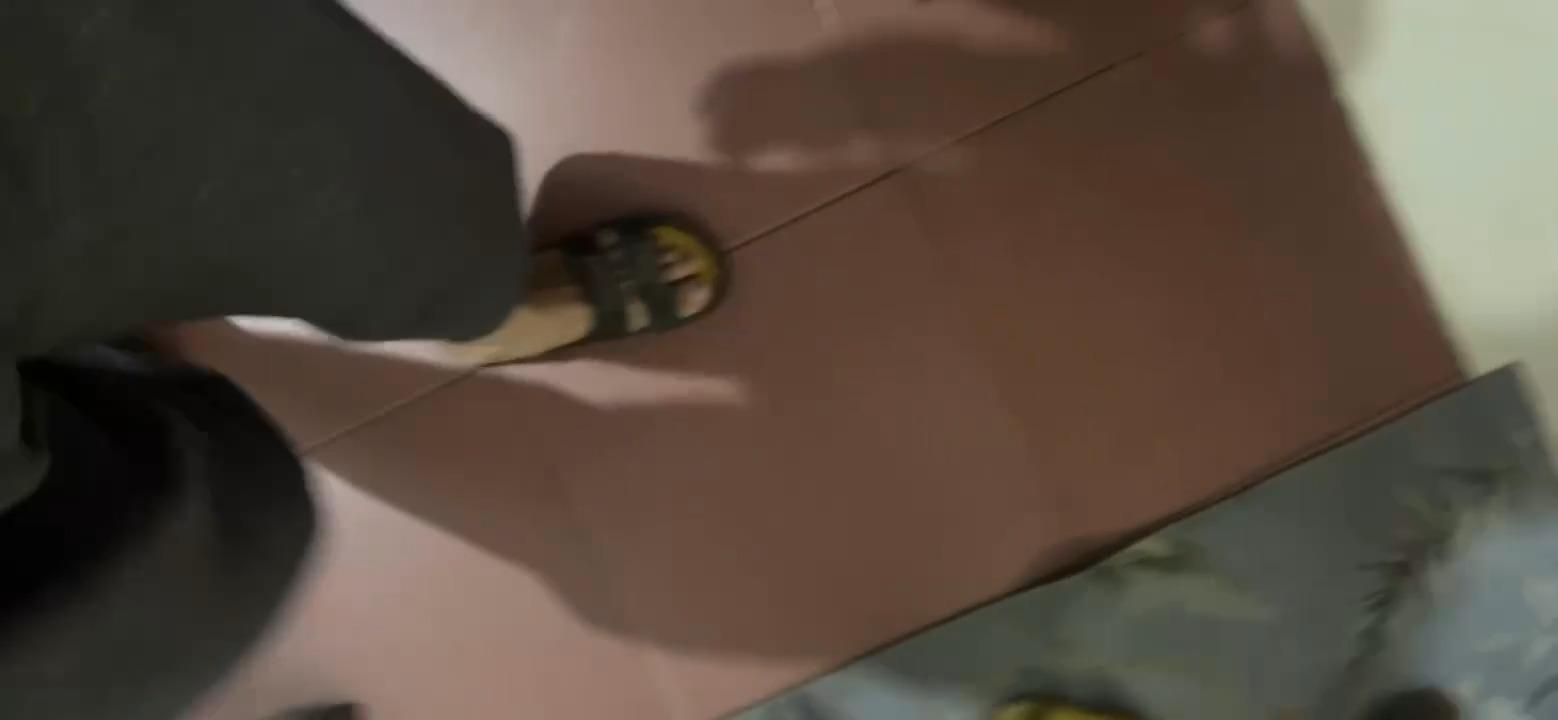no-boot: (451, 207, 726, 364)
